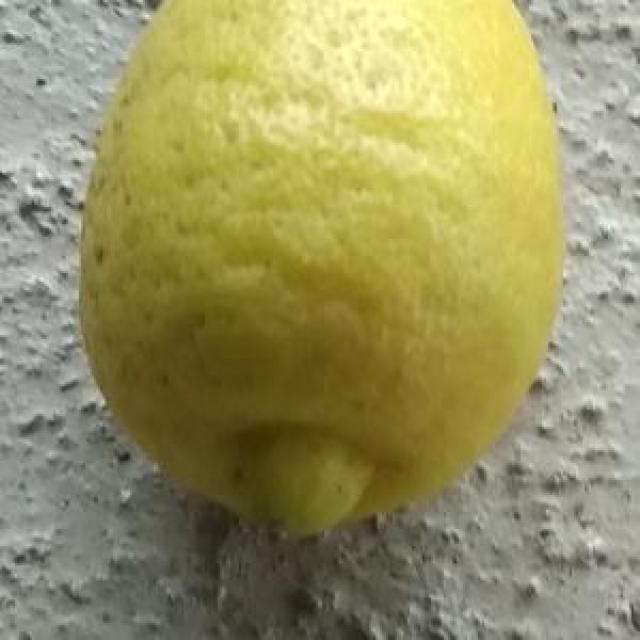lemon: (75, 0, 567, 539)
